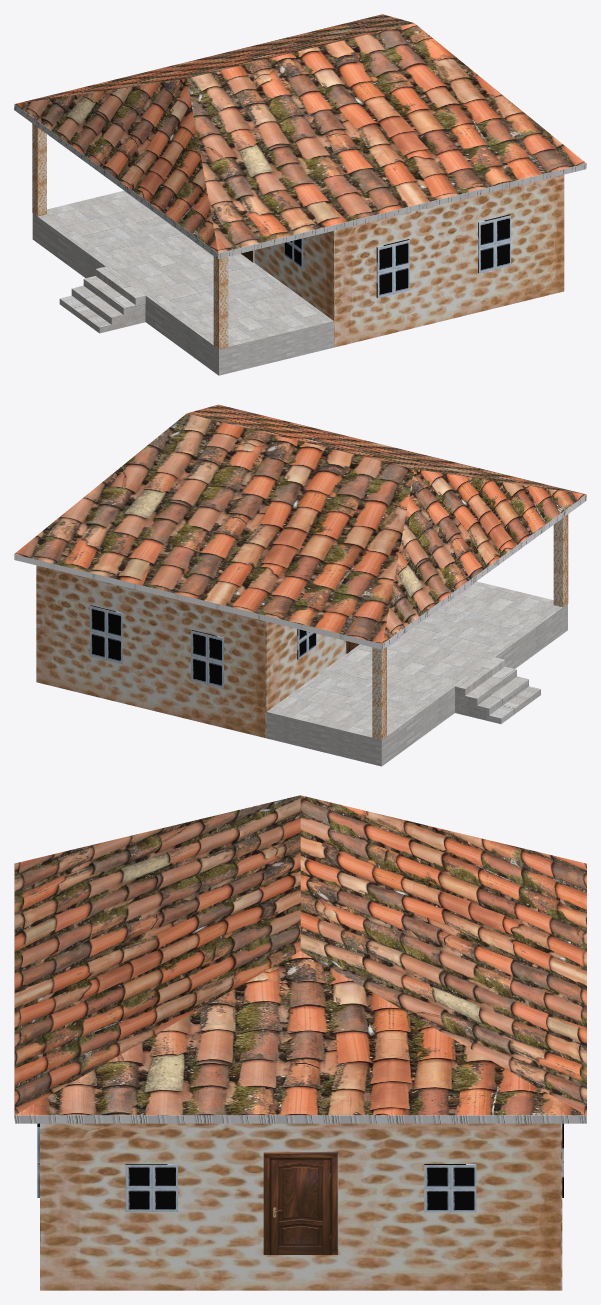
Rendered from rumah Rissan.fbx.
The picture shows the model from 3 angles, top to bottom: view 1: azimuth 30°, elevation 25°; view 2: azimuth 150°, elevation 25°; view 3: azimuth 270°, elevation 25°; orthographic projection. The views are drawn at different scales.
Parts seen in each view (by area): view 1: Plane.001, Cube.005, Cube, Plane.003, Plane.004, Plane, Cube.004, Cube.009, Cube.010, Cube.001, Cube.002, Cube.007; view 2: Plane.004, Cube.005, Cube, Plane.003, Plane.001, Plane, Cube.004, Cube.009, Cube.010, Cube.001, Cube.002; view 3: Cube.005, Plane.004, Plane.001, Plane.002, Cube.003, Plane, Cube.008, Cube.007.
Boxes of the visible parts, box(x1,y1,x2,y2) form: Plane.001: box(187, 23, 586, 252); Cube.005: box(254, 174, 564, 347); Cube: box(32, 190, 333, 375); Plane.003: box(14, 78, 218, 252); Plane.004: box(17, 14, 413, 103); Plane: box(14, 104, 586, 258); Cube.004: box(59, 266, 145, 333); Cube.009: box(376, 239, 409, 298); Cube.010: box(478, 214, 510, 273); Cube.001: box(213, 256, 228, 349); Cube.002: box(32, 123, 46, 216); Cube.007: box(283, 238, 303, 268); Plane.004: box(14, 413, 414, 643); Cube.005: box(36, 565, 346, 738); Cube: box(266, 581, 567, 766); Plane.003: box(382, 469, 585, 643); Plane.001: box(187, 404, 584, 494); Plane: box(14, 404, 586, 649); Cube.004: box(455, 657, 540, 723); Cube.009: box(191, 630, 223, 688); Cube.010: box(90, 605, 122, 663); Cube.001: box(553, 514, 568, 607); Cube.002: box(372, 647, 386, 740); Cube.005: box(40, 1123, 562, 1290); Plane.004: box(300, 795, 586, 1115); Plane.001: box(14, 795, 300, 1114); Plane.002: box(15, 951, 586, 1115); Cube.003: box(263, 1152, 338, 1254); Plane: box(14, 863, 586, 1123); Cube.008: box(424, 1164, 476, 1212); Cube.007: box(125, 1164, 177, 1211).
Bounding box in the file's own units: 8793 × 4446 × 7680.
Materials: 8 (8 with a texture image).
